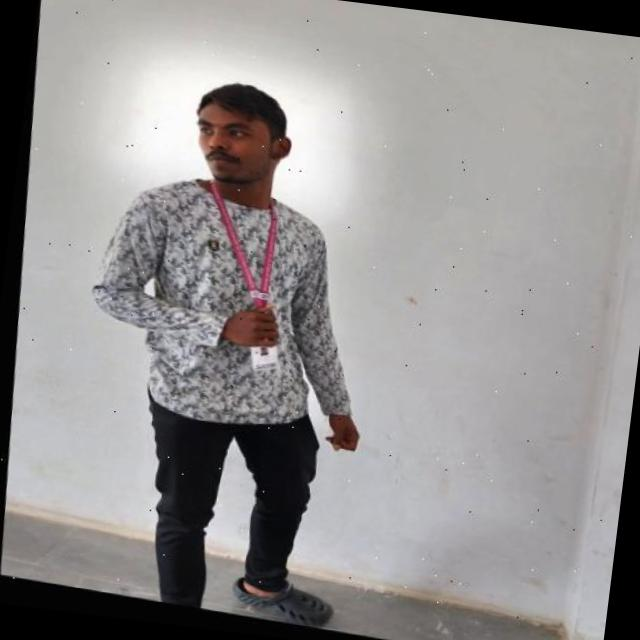id_card: (189, 178, 306, 375)
